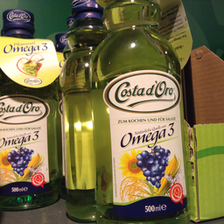oil: (86, 1, 190, 224), (1, 9, 62, 212)
